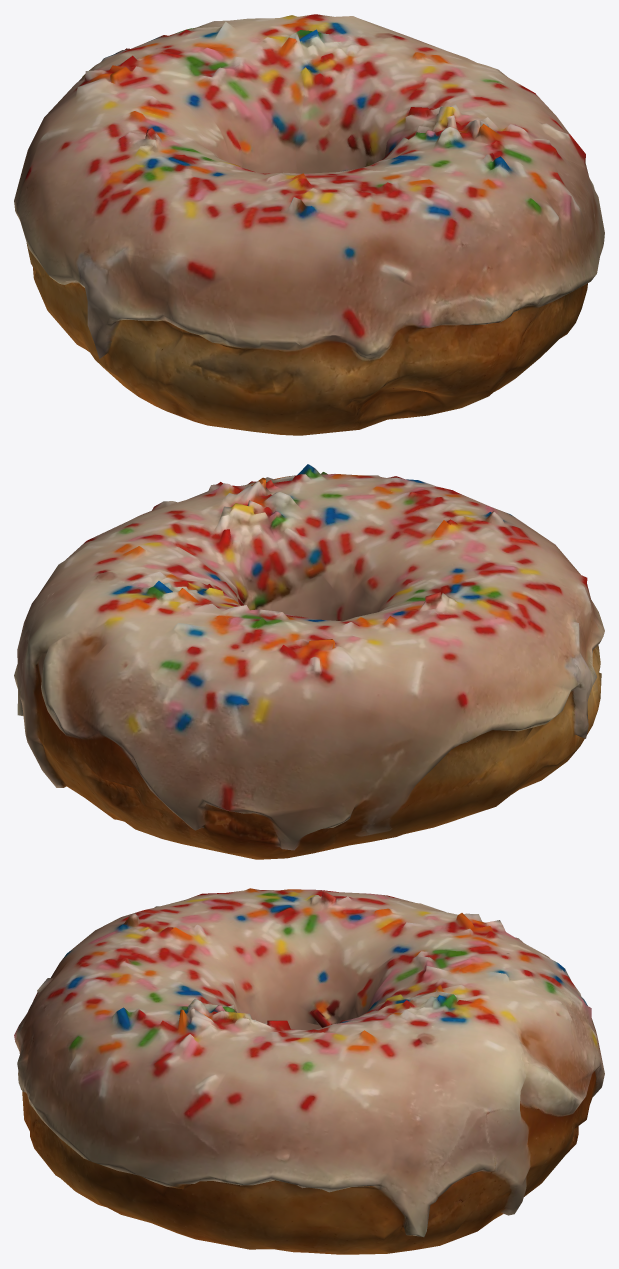
File: donut_color.glb
The picture shows the model from 3 angles, top to bottom: view 1: azimuth 30°, elevation 25°; view 2: azimuth 150°, elevation 25°; view 3: azimuth 270°, elevation 25°; orthographic projection. The views are drawn at different scales.
Parts seen in each view (by area): view 1: vcbjfbu_LOD0_TIER1_000; view 2: vcbjfbu_LOD0_TIER1_000; view 3: vcbjfbu_LOD0_TIER1_000.
Boxes of the visible parts, x1,y1,x2,y2 form: vcbjfbu_LOD0_TIER1_000: (14, 14, 604, 435); vcbjfbu_LOD0_TIER1_000: (14, 464, 604, 859); vcbjfbu_LOD0_TIER1_000: (14, 888, 604, 1254).
Bounding box in the file's own units: 0.0802 × 0.0338 × 0.0852.
Materials: 1 (1 with a texture image).
